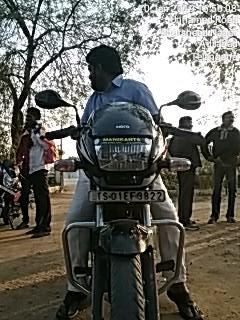plate: (88, 188, 170, 207)
